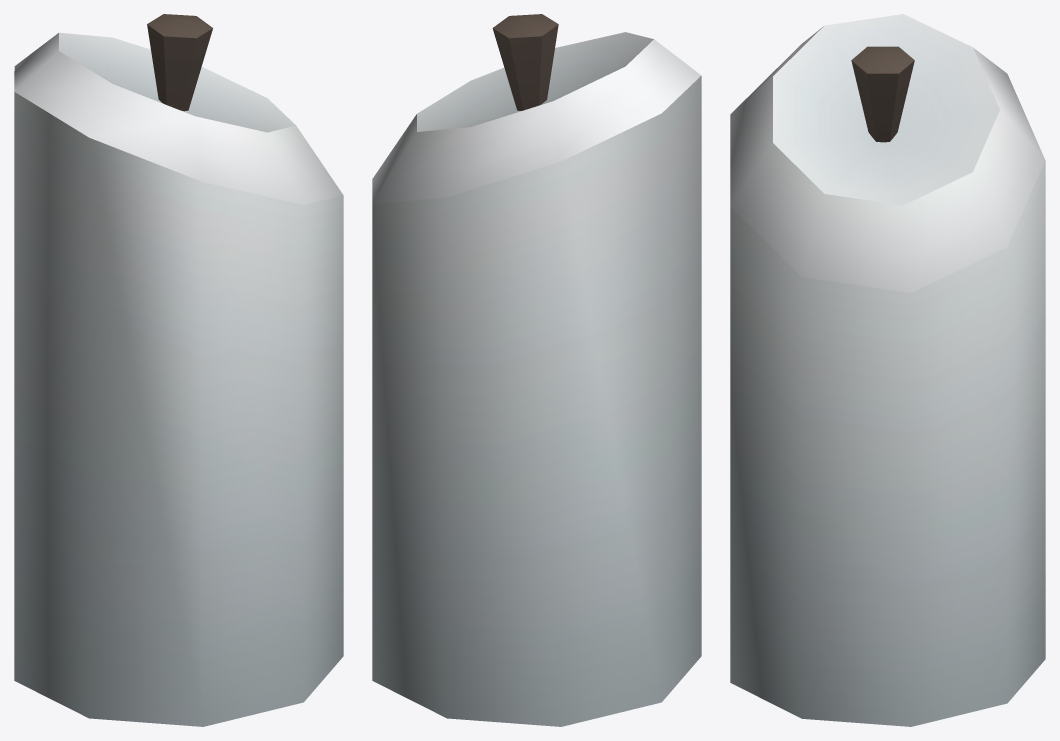
File: kaykit-halloween-bits-candle-melted.glb
The picture shows the model from 3 angles, left to right: view 1: azimuth 30°, elevation 25°; view 2: azimuth 150°, elevation 25°; view 3: azimuth 270°, elevation 25°; orthographic projection. The views are drawn at different scales.
Parts seen in each view (by area): view 1: candle_melted; view 2: candle_melted; view 3: candle_melted.
Boxes of the visible parts, left/top/right/bottom form: candle_melted: left=14, top=14, right=343, bottom=726; candle_melted: left=372, top=14, right=701, bottom=726; candle_melted: left=730, top=14, right=1045, bottom=726.
Size of the model in its own units: 0.3009 by 0.6314 by 0.2964.
Materials: 1 (1 with a texture image).
